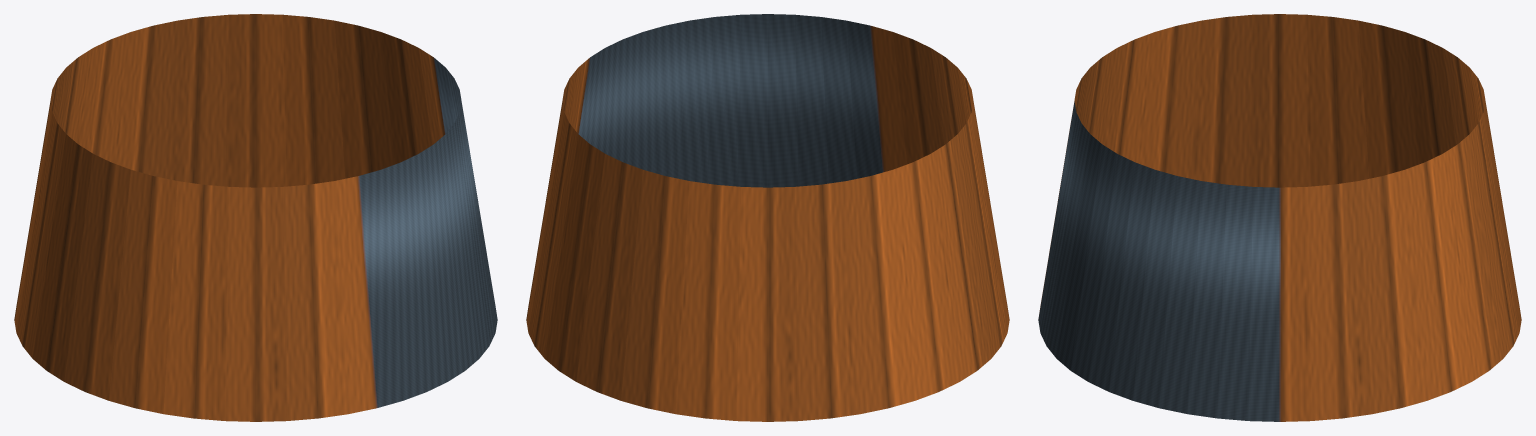
The model's file is 过门升光.fbx.
The picture shows the model from 3 angles, left to right: view 1: azimuth 30°, elevation 25°; view 2: azimuth 150°, elevation 25°; view 3: azimuth 270°, elevation 25°; orthographic projection.
Parts seen in each view (by area): view 1: 过门升光; view 2: 过门升光; view 3: 过门升光.
Boxes of the visible parts, bbox=[...] form: 过门升光: bbox=[14, 14, 497, 421]; 过门升光: bbox=[526, 14, 1009, 421]; 过门升光: bbox=[1038, 14, 1521, 421].
Size of the model in its own units: 200 by 100 by 200.
1 material, 1 textured.
